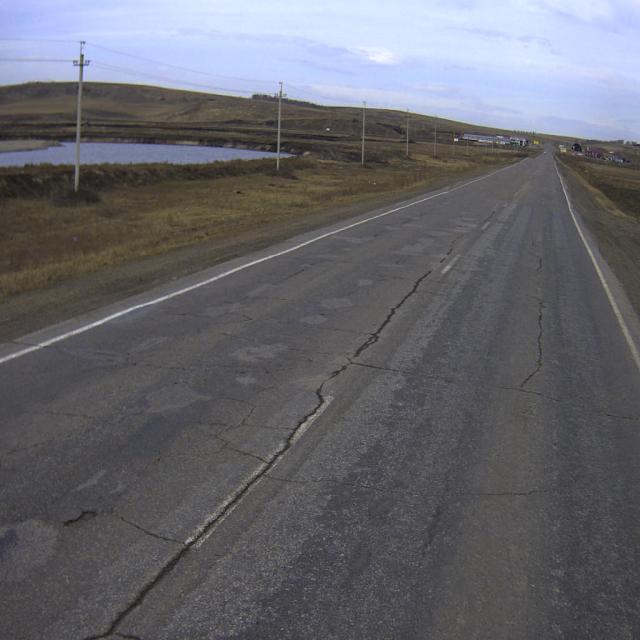road: (0, 151, 640, 639)
